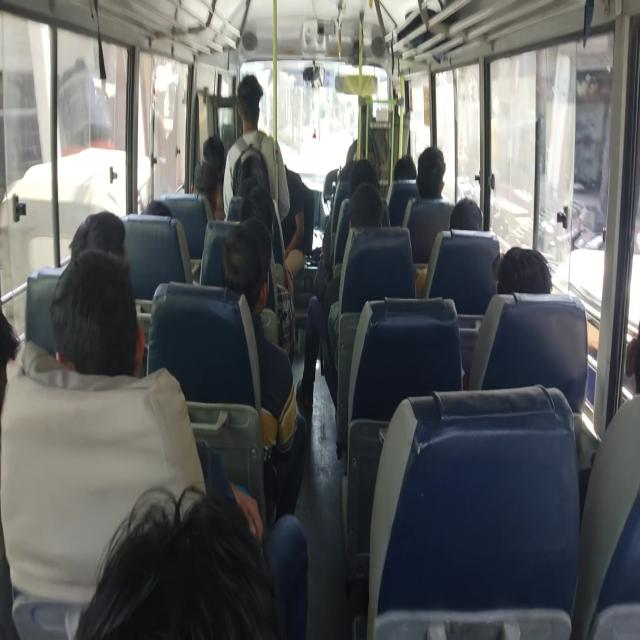person: (98, 502, 258, 640), (68, 256, 146, 385), (276, 150, 321, 236), (494, 246, 550, 313), (218, 230, 264, 288), (81, 209, 130, 261), (233, 78, 270, 140), (613, 321, 640, 398), (0, 297, 28, 369), (449, 198, 486, 252), (361, 196, 396, 230), (399, 150, 428, 185), (423, 148, 447, 190), (201, 128, 227, 164), (244, 187, 272, 220), (244, 170, 272, 200), (199, 171, 223, 201), (144, 198, 170, 224), (336, 158, 364, 182), (354, 176, 376, 198)
